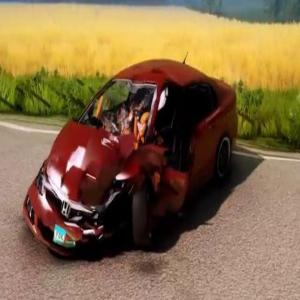severe: (19, 49, 241, 268)
